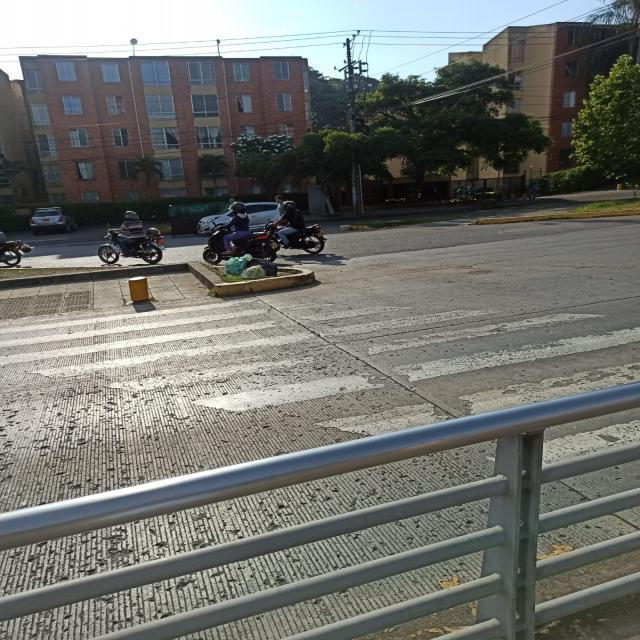Garbage_Bag: (224, 253, 250, 274), (248, 258, 278, 276), (240, 264, 266, 278)
